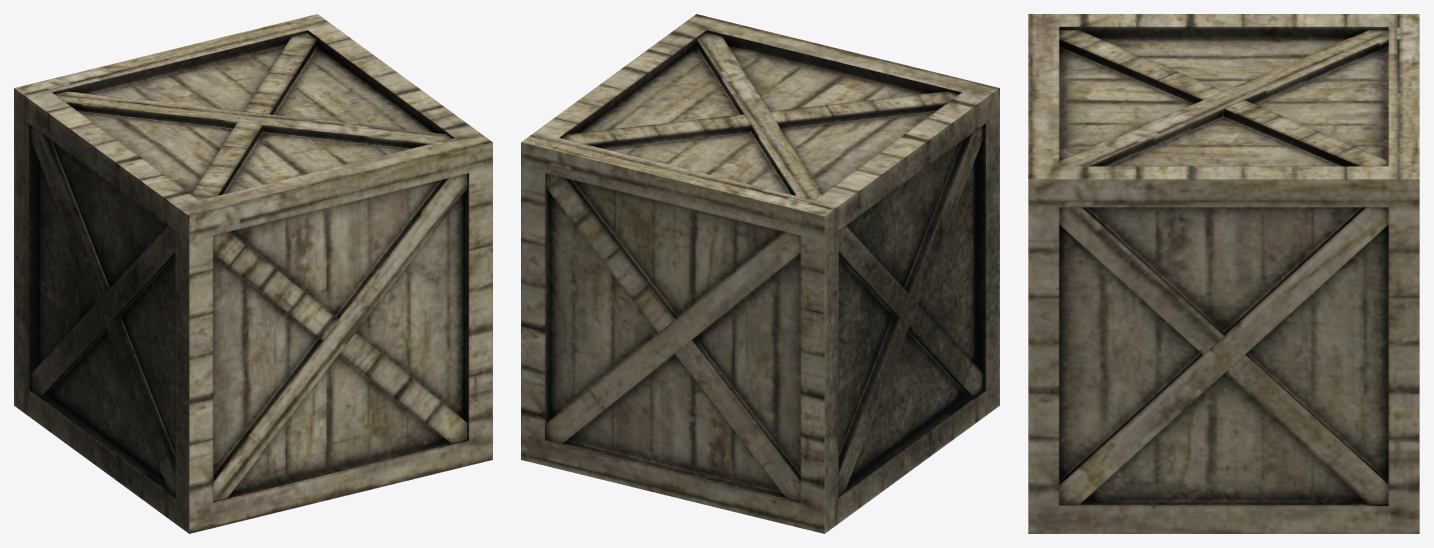
The model's file is Crate_03.FBX.
3 views of the same model, side by side, from view 1: azimuth 30°, elevation 25°; view 2: azimuth 150°, elevation 25°; view 3: azimuth 270°, elevation 25° (orthographic). The views are drawn at different scales.
Parts seen in each view (by area): view 1: C_03_Unbroken, C_03_Frag02, C_03_Frag08, C_03_Frag03, C_03_Frag09, C_03_Frag01; view 2: C_03_Unbroken, C_03_Frag07, C_03_Frag08, C_03_Frag03, C_03_Frag02, C_03_Frag09, C_03_Frag06, C_03_Frag04; view 3: C_03_Unbroken, C_03_Frag05, C_03_Frag03, C_03_Frag06, C_03_Frag02.
Boxes of the visible parts, box(x1,y1,x2,y2) form: C_03_Unbroken: box(14, 14, 492, 533); C_03_Frag02: box(181, 127, 492, 533); C_03_Frag08: box(14, 88, 154, 438); C_03_Frag03: box(22, 30, 462, 208); C_03_Frag09: box(62, 225, 175, 495); C_03_Frag01: box(214, 272, 468, 501); C_03_Unbroken: box(521, 14, 999, 533); C_03_Frag07: box(521, 142, 824, 533); C_03_Frag08: box(824, 116, 961, 533); C_03_Frag03: box(560, 15, 987, 210); C_03_Frag02: box(685, 14, 999, 95); C_03_Frag09: box(867, 126, 982, 473); C_03_Frag06: box(521, 142, 553, 301); C_03_Frag04: box(521, 293, 800, 502); C_03_Unbroken: box(1028, 14, 1419, 533); C_03_Frag05: box(1028, 180, 1419, 533); C_03_Frag03: box(1044, 14, 1406, 177); C_03_Frag06: box(1028, 179, 1419, 340); C_03_Frag02: box(1028, 14, 1129, 179).
Size of the model in its own units: 75.55 by 75.55 by 75.55.
